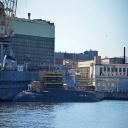submarine: (12, 70, 109, 102)
